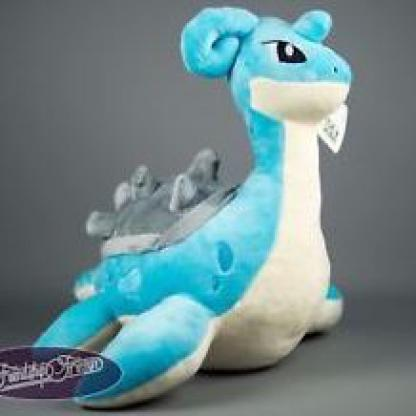Lapras: (22, 1, 367, 373)
